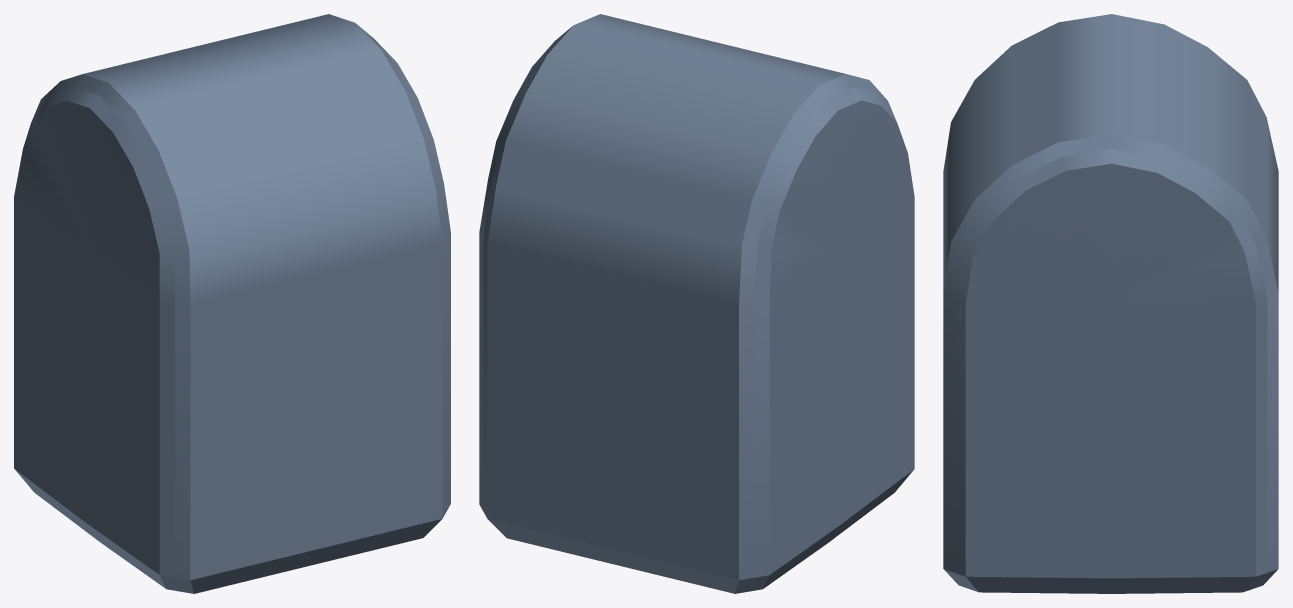
File: legdown.obj
3 views of the same model, side by side, from view 1: azimuth 30°, elevation 25°; view 2: azimuth 150°, elevation 25°; view 3: azimuth 270°, elevation 25° (orthographic).
Parts seen in each view (by area): view 1: Onett4; view 2: Onett4; view 3: Onett4.
Boxes of the visible parts, box(x1,y1,x2,y2) form: Onett4: box(14, 14, 450, 593); Onett4: box(479, 14, 914, 593); Onett4: box(943, 14, 1278, 593).
Size of the model in its own units: 1 by 1.5 by 1.
Materials: 1 (1 with a texture image).
